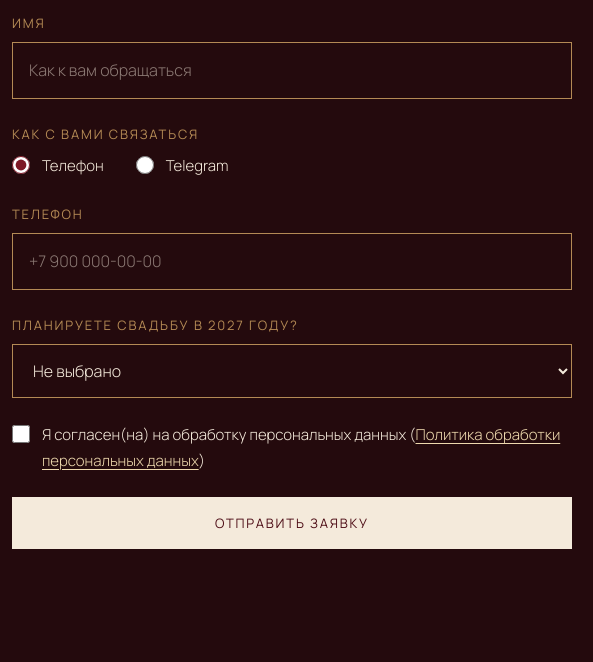
Test case: форма заявки › не отправляется без обязательных полей и согласия
Click the button "Отправить заявку" at (292, 523), box [12,497,572,549]
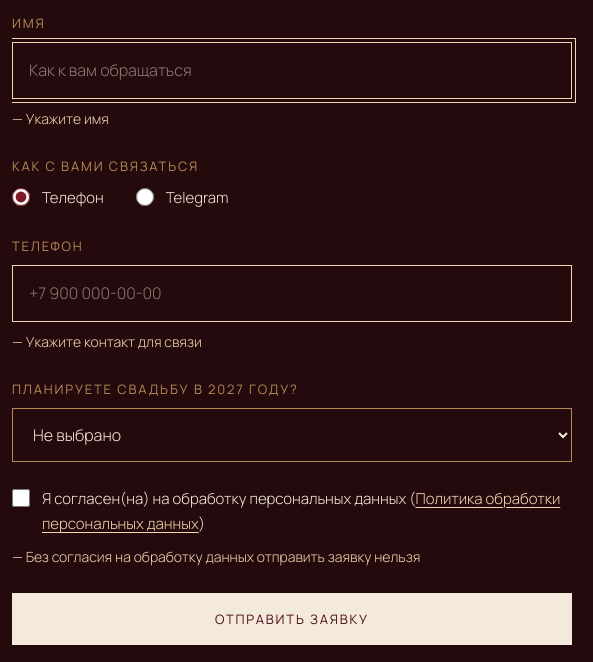
Now the text "Укажите имя" is shown, box [26,109,109,128]
Now the text "Без согласия на обработку данных отправить заявку нельзя" is shown, box [26,547,420,566]
